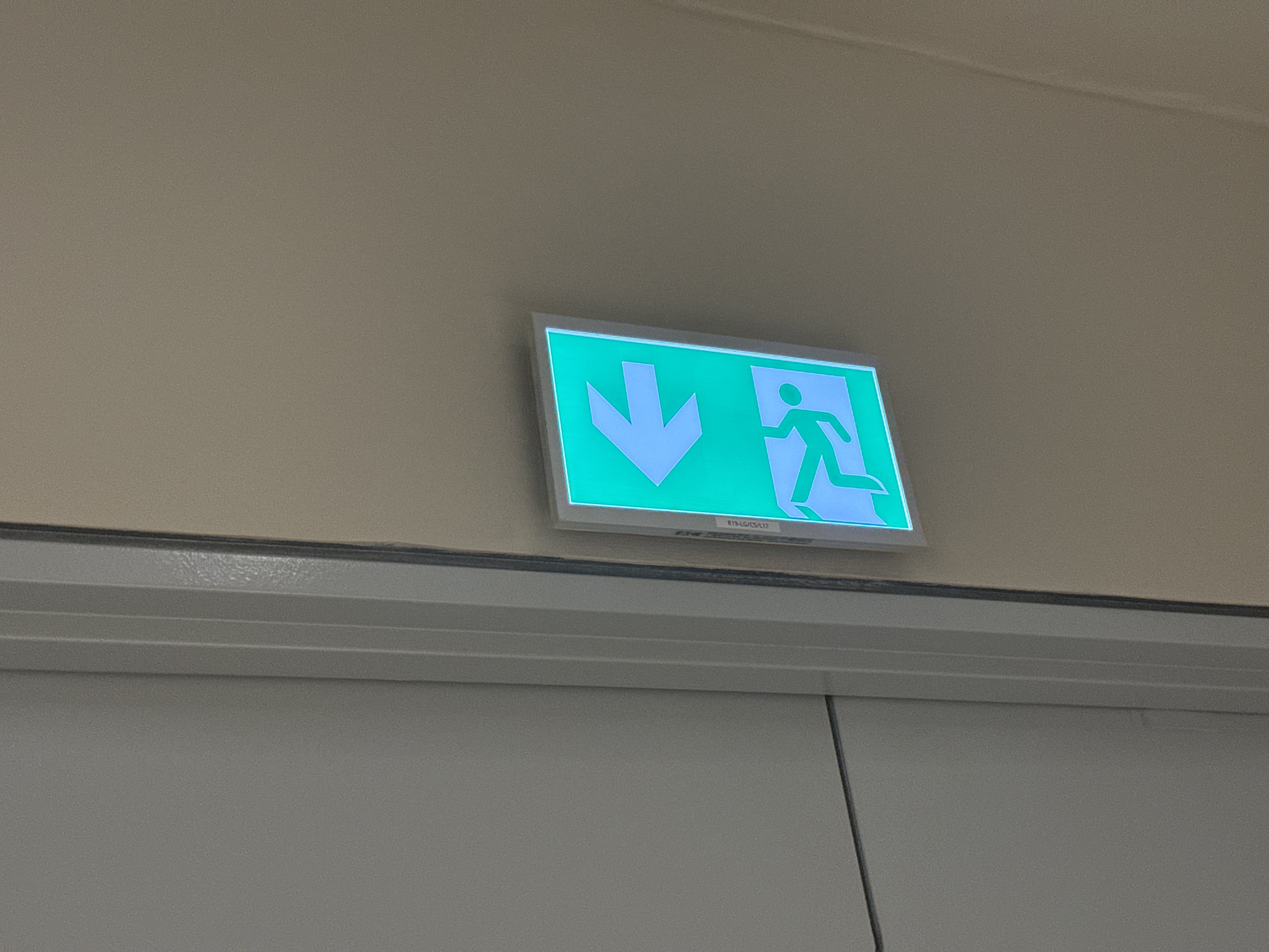emergency_exit: (527, 309, 929, 553)
